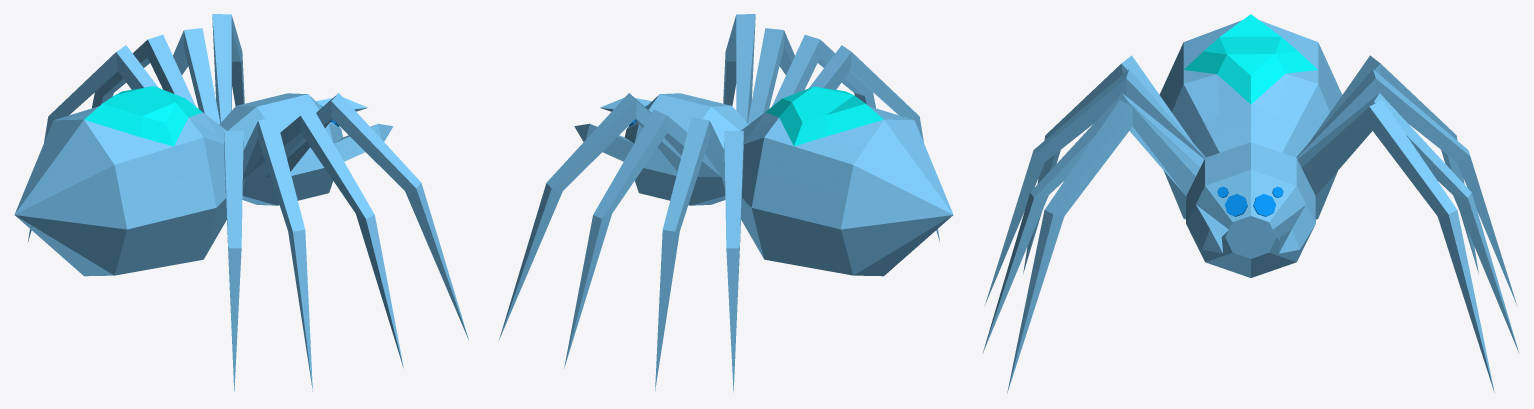
Rendered from ice_spider.fbx.
3 views of the same model, side by side, from view 1: azimuth 30°, elevation 25°; view 2: azimuth 150°, elevation 25°; view 3: azimuth 270°, elevation 25° (orthographic). The views are drawn at different scales.
Parts seen in each view (by area): view 1: Plane.003; view 2: Plane.003; view 3: Plane.003, Circle.
Boxes of the visible parts, x1=… form: Plane.003: x1=14, y1=14, x2=468, y2=391; Plane.003: x1=499, y1=14, x2=953, y2=392; Plane.003: x1=982, y1=14, x2=1519, y2=392; Circle: x1=1224, y1=194, x2=1276, y2=216.
Size of the model in its own units: 490 by 291 by 564.
Materials: 2 (2 with a texture image).
